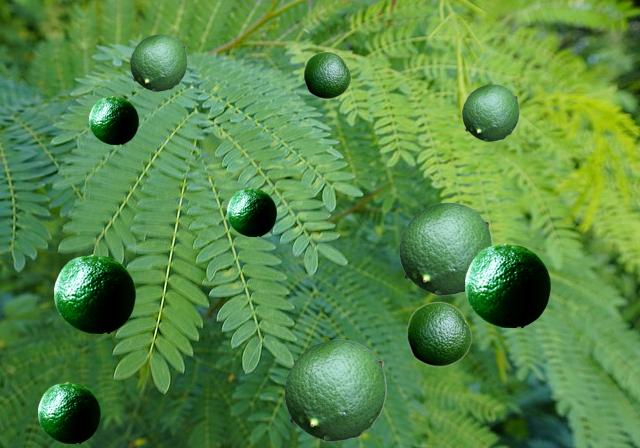calamansi: (284, 339, 385, 440), (399, 202, 491, 294), (465, 243, 549, 326), (54, 254, 134, 332), (406, 301, 471, 366), (38, 382, 99, 442), (462, 84, 518, 140), (130, 34, 186, 90), (89, 96, 137, 143), (227, 188, 275, 235), (303, 51, 350, 98)
